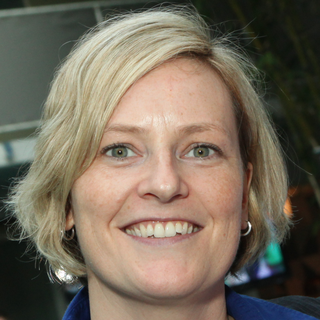eye: (175, 138, 227, 169), (93, 138, 145, 167)
